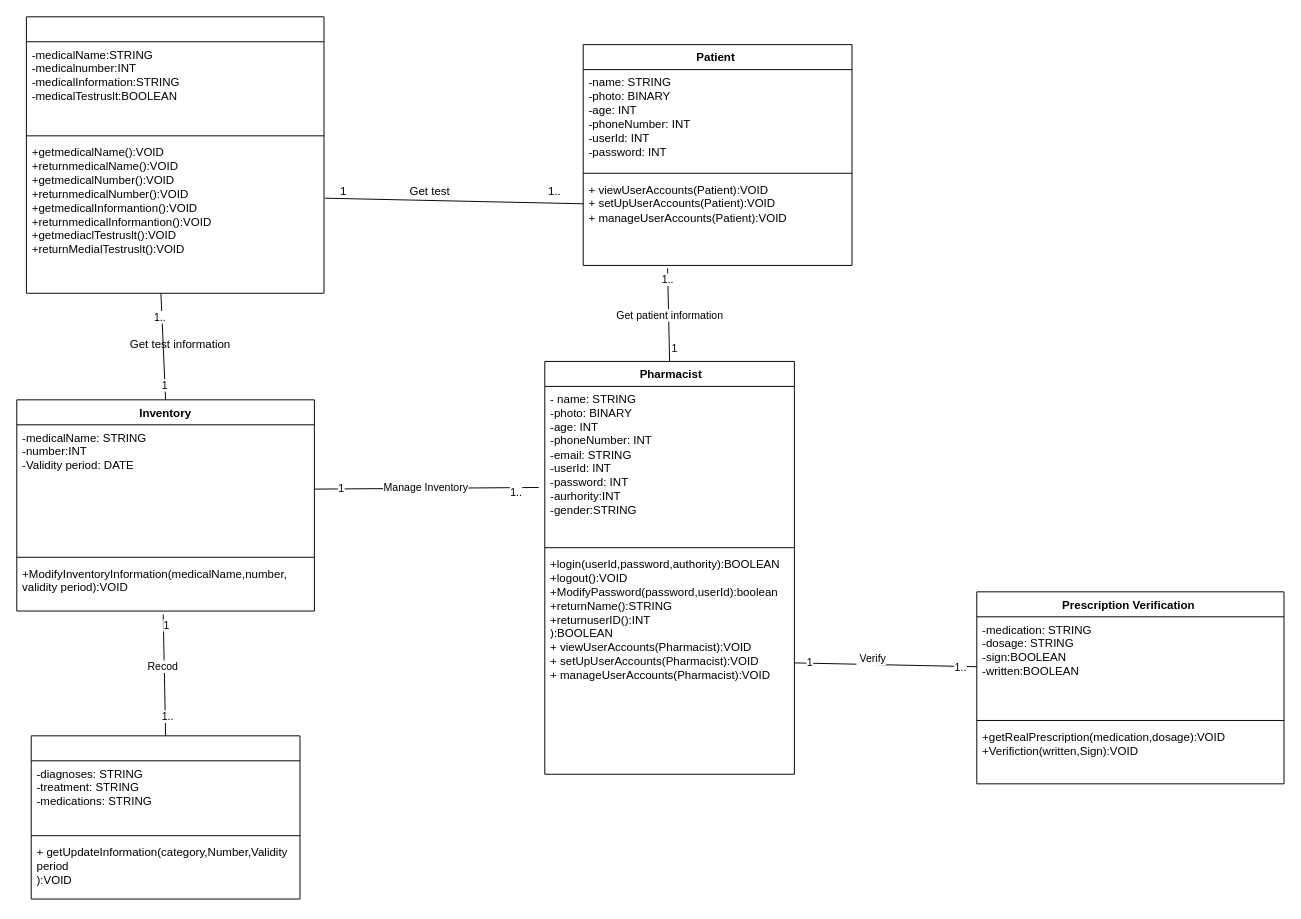
The diagram is 1301 pixels wide and 919 high, and some of its shapes have lost their labels. The shapes that lost their labels are listed below. From the top down, each one's box as (x1, y1, x2, y2) in pixels, then its label:
(25, 16, 324, 293): Lab
(30, 735, 300, 899): Record
